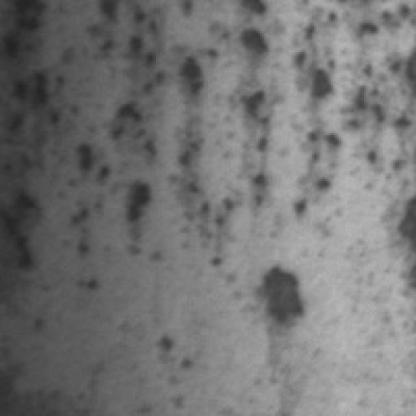patches: (256, 264, 312, 339)
pitted_surface: (8, 19, 281, 281), (285, 4, 416, 231)
